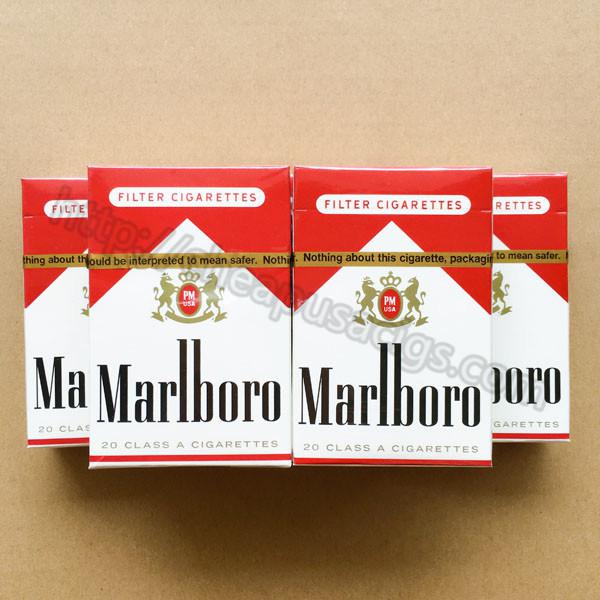marlboro_red: (292, 167, 494, 467), (90, 169, 290, 466)
